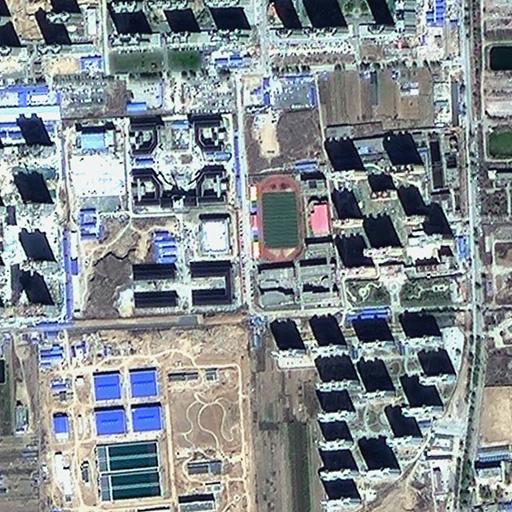school: (250, 167, 331, 307)
